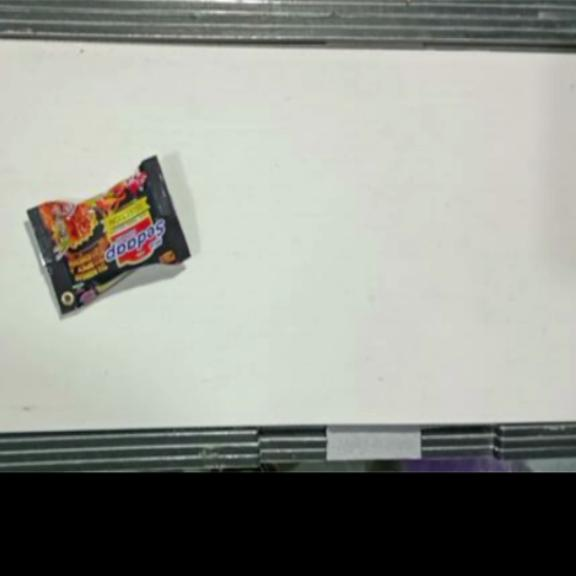Plastik: (25, 155, 193, 317)
